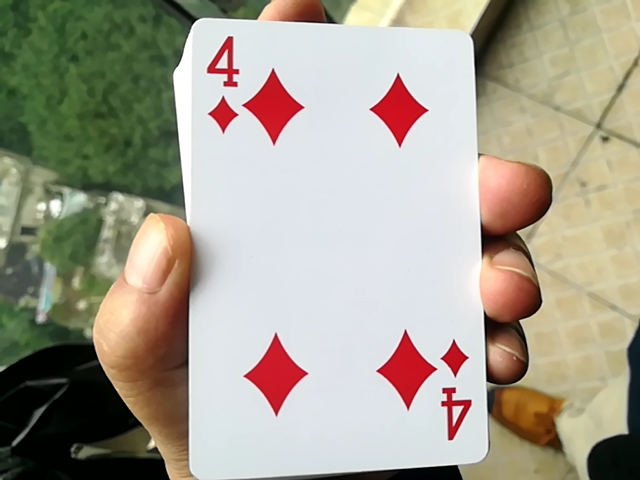fk 4: (159, 4, 491, 468)
